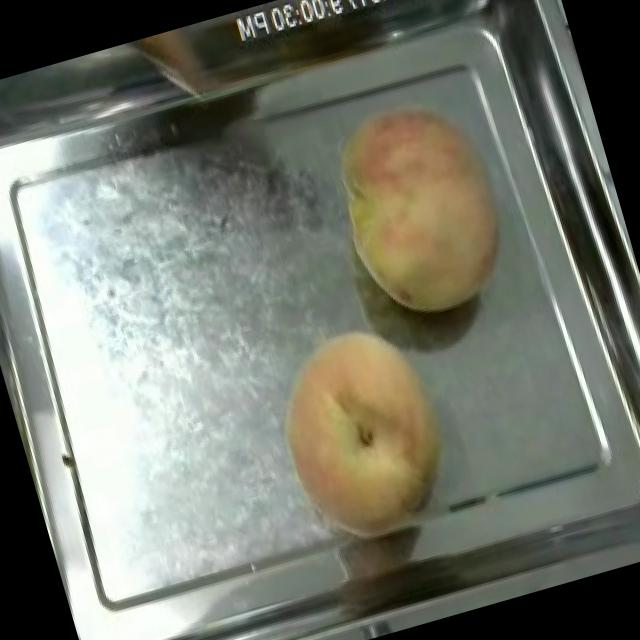Fruit: (308, 72, 536, 339), (250, 304, 473, 554)
